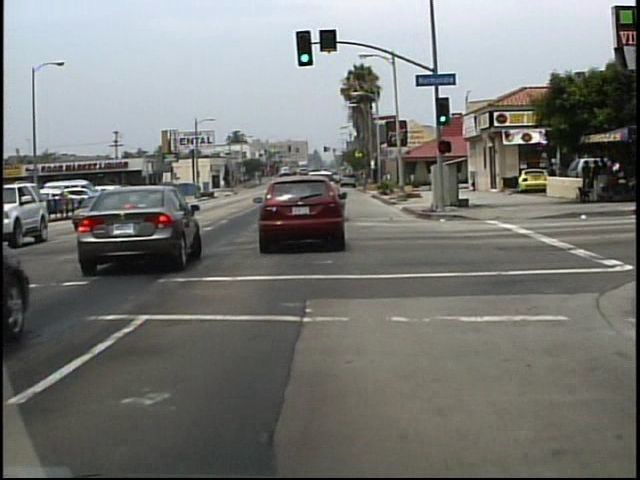person: (543, 160, 560, 198)
